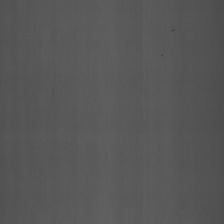inclusion: (158, 48, 166, 61), (169, 25, 176, 33)
